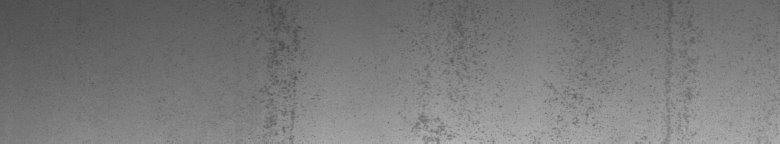ib: (544, 4, 704, 131)
